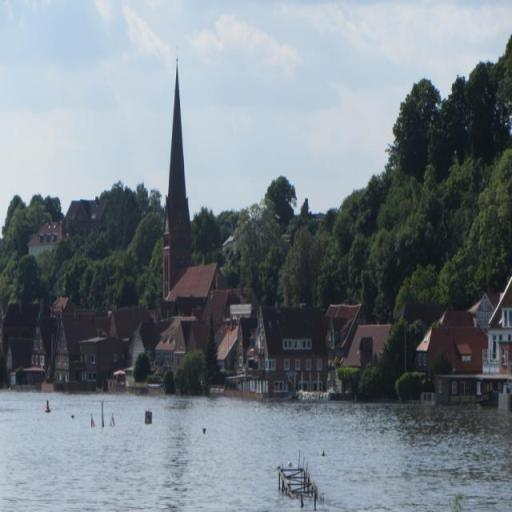flood: (0, 392, 512, 512)
house: (257, 304, 328, 392), (420, 312, 483, 372), (488, 278, 512, 380), (342, 324, 392, 370), (156, 314, 203, 358), (50, 314, 78, 384), (78, 333, 115, 383), (108, 305, 152, 344), (26, 313, 48, 372)
